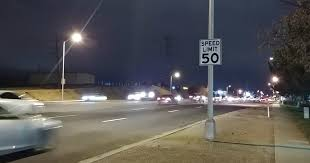speedLimit50: (197, 38, 224, 66)
